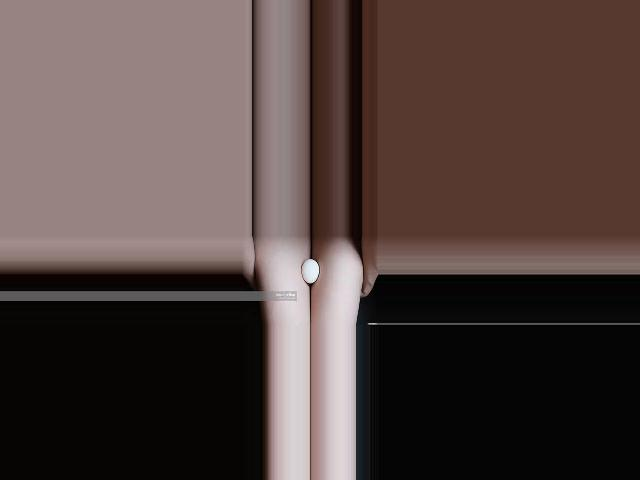egg: (301, 259, 319, 283)
